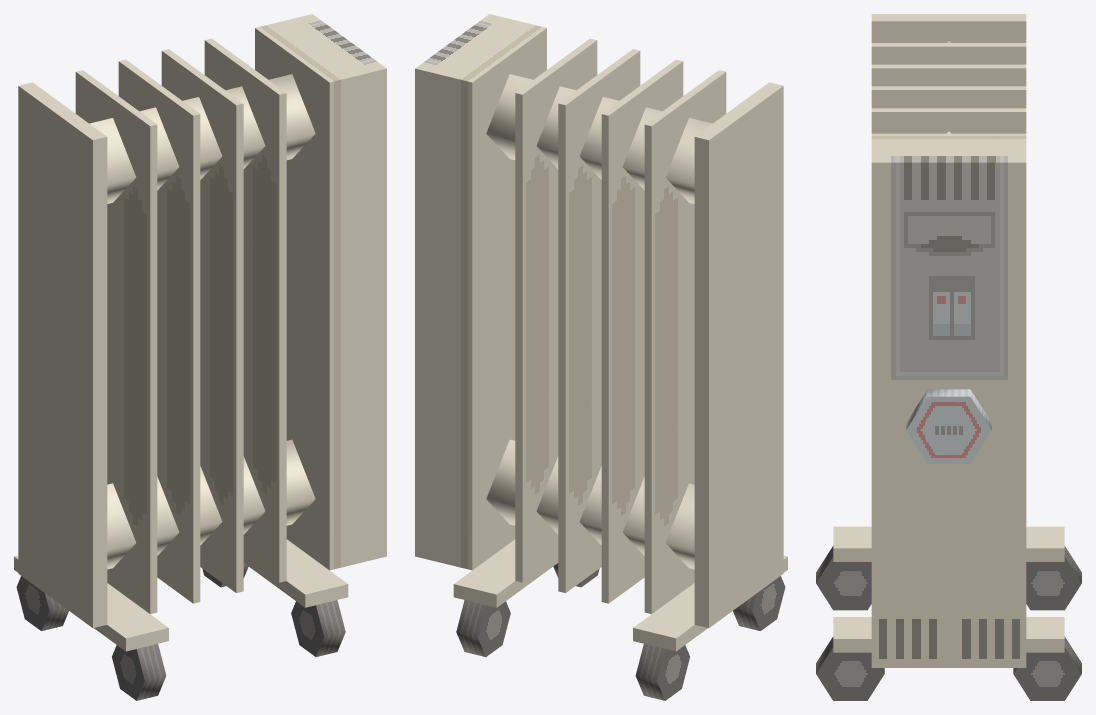
File: 0190_Oil_Heater.glb
The picture shows the model from 3 angles, left to right: view 1: azimuth 30°, elevation 25°; view 2: azimuth 150°, elevation 25°; view 3: azimuth 270°, elevation 25°; orthographic projection. The views are drawn at different scales.
Parts seen in each view (by area): view 1: part_0; view 2: part_0; view 3: part_0.
Boxes of the visible parts, box(x1,y1,x2,y2) form: part_0: box(14, 14, 386, 700); part_0: box(415, 14, 787, 700); part_0: box(816, 14, 1081, 700).
Bounding box in the file's own units: 0.43 × 0.7369 × 0.31.
1 material, 1 textured.
